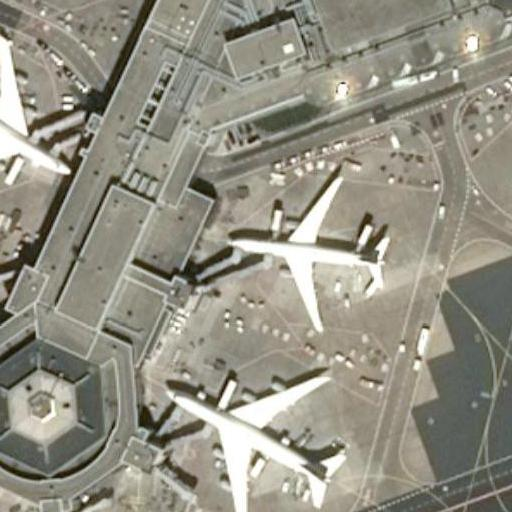Aircraft: (222, 169, 392, 330), (161, 370, 345, 512), (0, 29, 71, 188), (510, 46, 512, 223)
